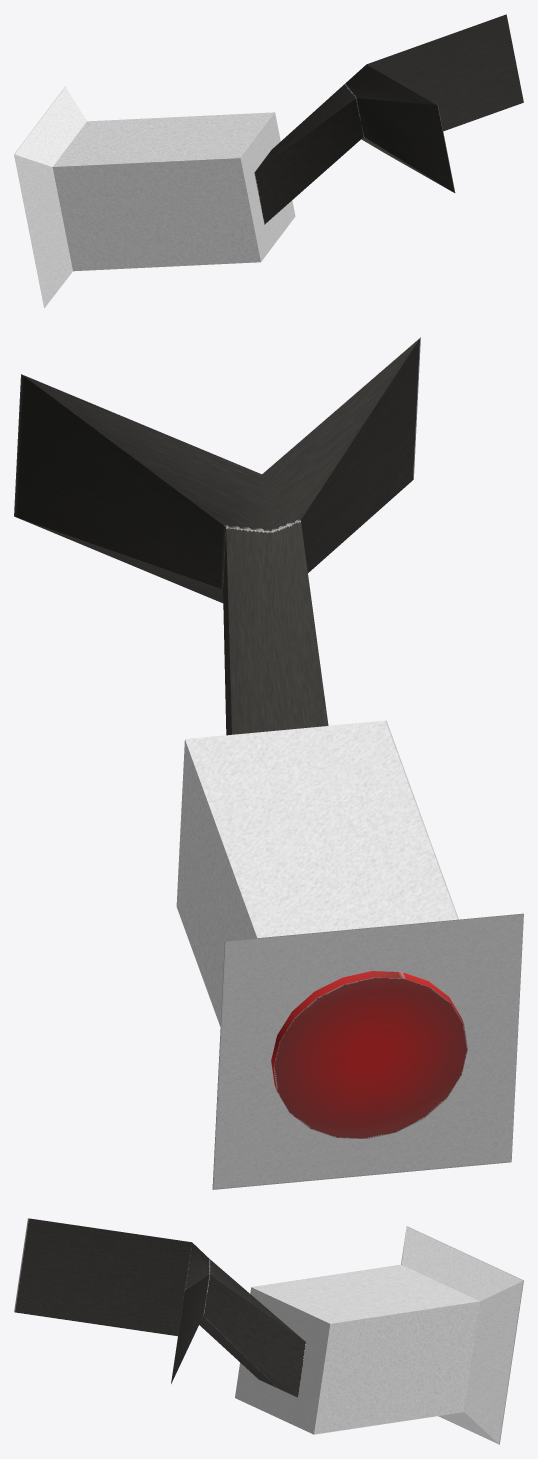
File: camera_exported.fbx
3 renders of one model, top to bottom at view 1: azimuth 30°, elevation 25°; view 2: azimuth 150°, elevation 25°; view 3: azimuth 270°, elevation 25°, orthographic. The views are drawn at different scales.
Visible parts, largest first — view 1: Camera; view 2: Camera; view 3: Camera.
Part boxes in pixels (bbox=[...]): Camera: bbox=[14, 14, 523, 307]; Camera: bbox=[14, 337, 523, 1189]; Camera: bbox=[14, 1218, 523, 1444].
Size of the model in its own units: 2.46 by 1.63 by 2.66.
